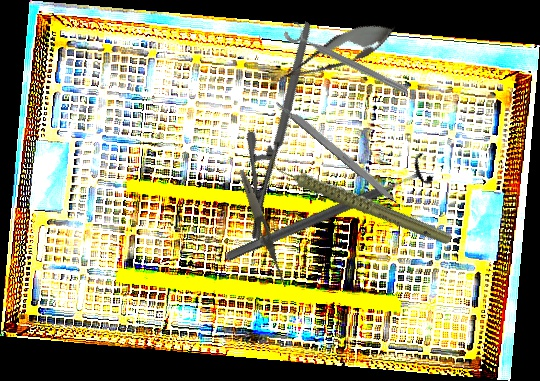Dressing Forceps: (235, 168, 292, 289)
Fixation Ring: (218, 151, 437, 274), (282, 18, 413, 98)
Handpiece: (266, 121, 456, 280)
Micro Scissor: (261, 11, 402, 101)
Needle Holder: (190, 21, 375, 243)
Scalpel Handle: (272, 95, 402, 207)
